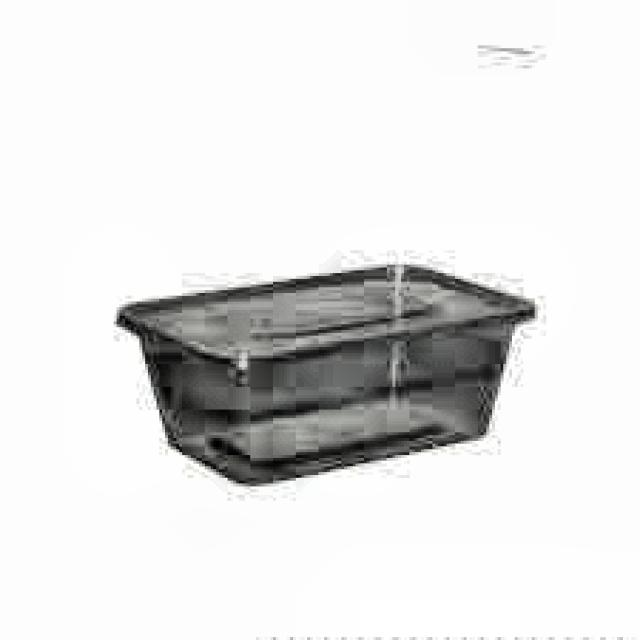plastic container: (119, 265, 534, 485)
